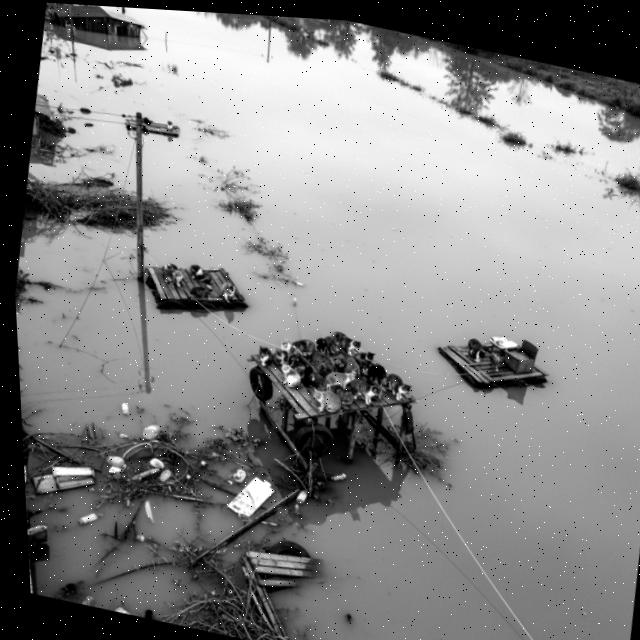cat: (307, 387, 347, 420), (383, 371, 415, 407), (347, 376, 384, 407), (320, 366, 357, 396), (276, 360, 306, 394), (327, 329, 363, 357), (277, 336, 308, 368), (328, 382, 357, 409), (288, 335, 319, 360), (292, 360, 320, 387), (185, 281, 217, 304), (363, 359, 390, 386), (186, 260, 215, 285), (465, 338, 490, 366), (160, 265, 186, 290), (272, 349, 301, 370), (320, 334, 345, 357), (254, 343, 275, 370), (217, 280, 239, 305), (344, 354, 365, 380), (352, 344, 376, 366), (314, 336, 334, 360), (159, 259, 182, 278), (317, 361, 340, 379), (330, 351, 347, 373), (487, 351, 503, 373)
